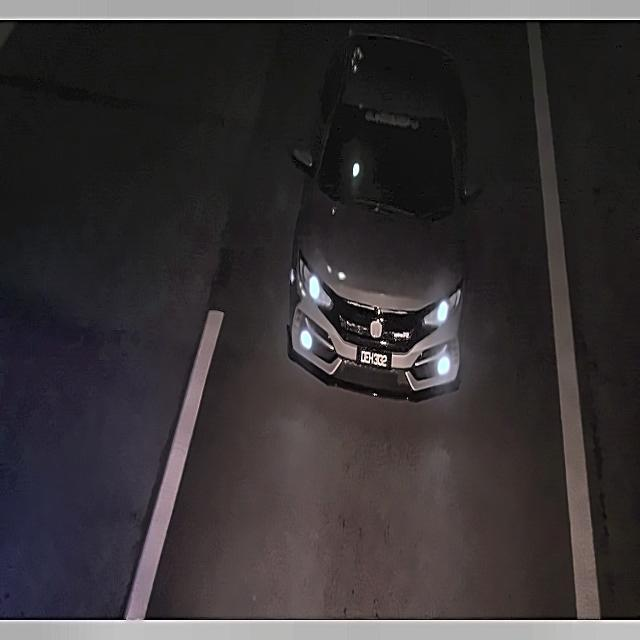car: (356, 344, 396, 375)
